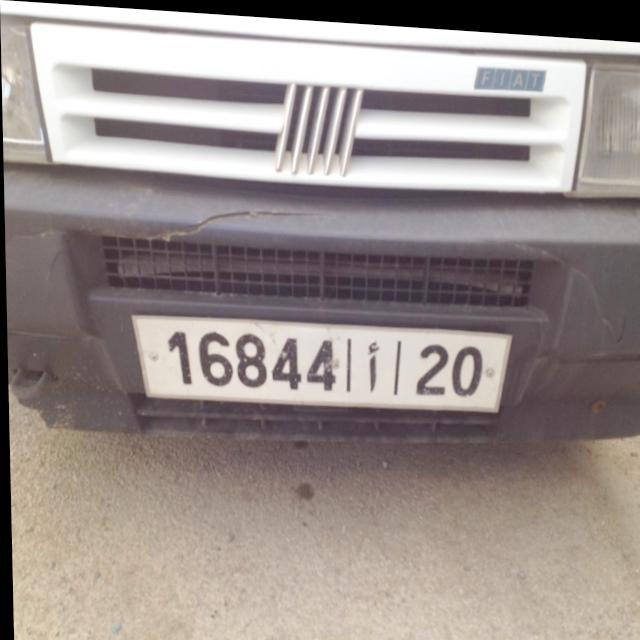License-Plate: (130, 313, 510, 407)
